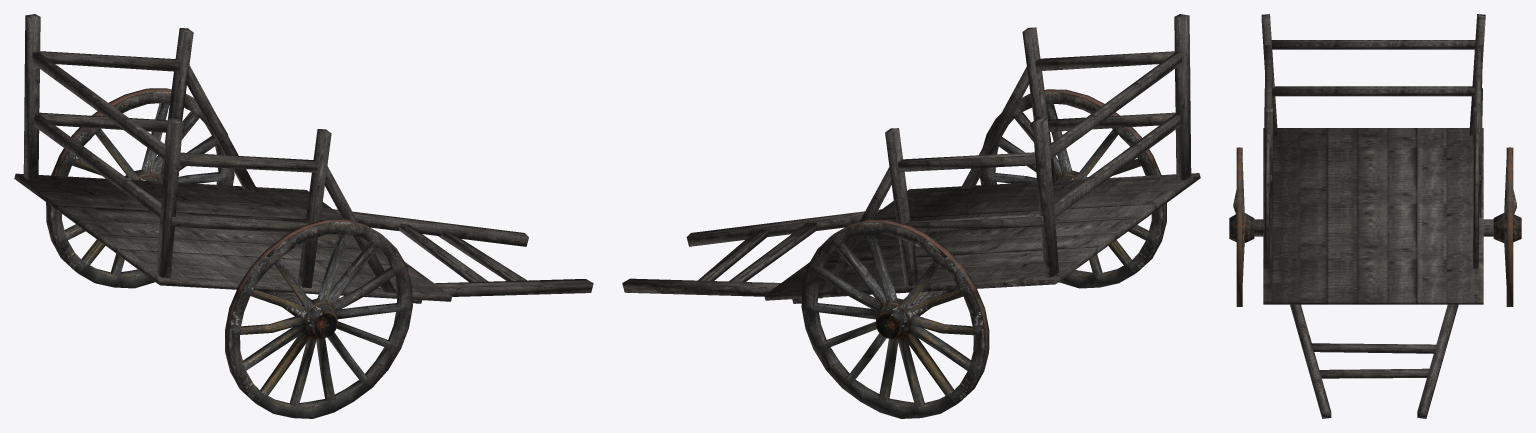
Rendered from haywagon.dae.
The picture shows the model from 3 angles, left to right: view 1: azimuth 30°, elevation 25°; view 2: azimuth 150°, elevation 25°; view 3: azimuth 270°, elevation 25°; orthographic projection. The views are drawn at different scales.
Visible parts, largest first — view 1: meshU3D; view 2: meshU3D; view 3: meshU3D.
Part boxes in pixels (x1,y1,x2,y2): meshU3D: (14,14,593,418); meshU3D: (622,14,1200,418); meshU3D: (1229,14,1521,418).
Size of the model in its own units: 2.73 by 1.73 by 1.93.
